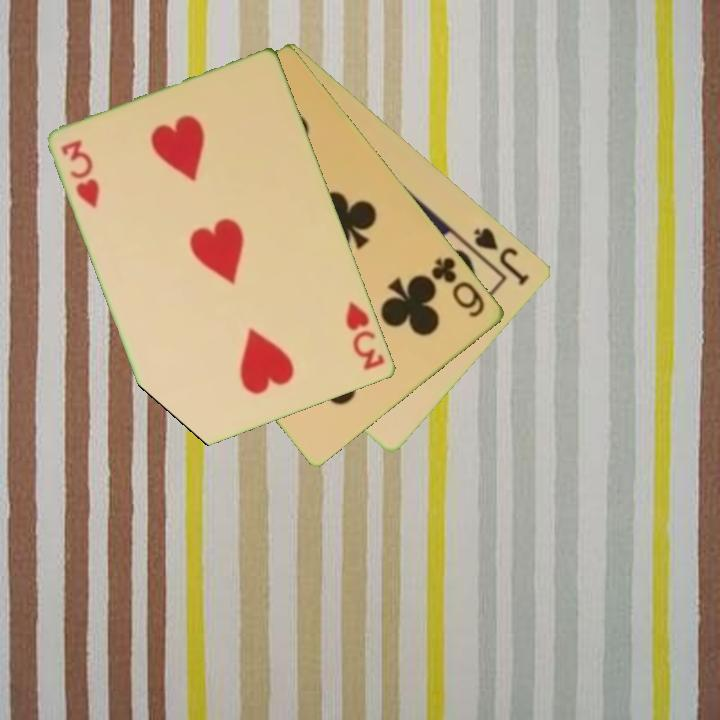3h: (342, 297, 389, 374), (58, 136, 103, 212)
6c: (428, 253, 489, 321)
Js: (470, 223, 533, 289)
